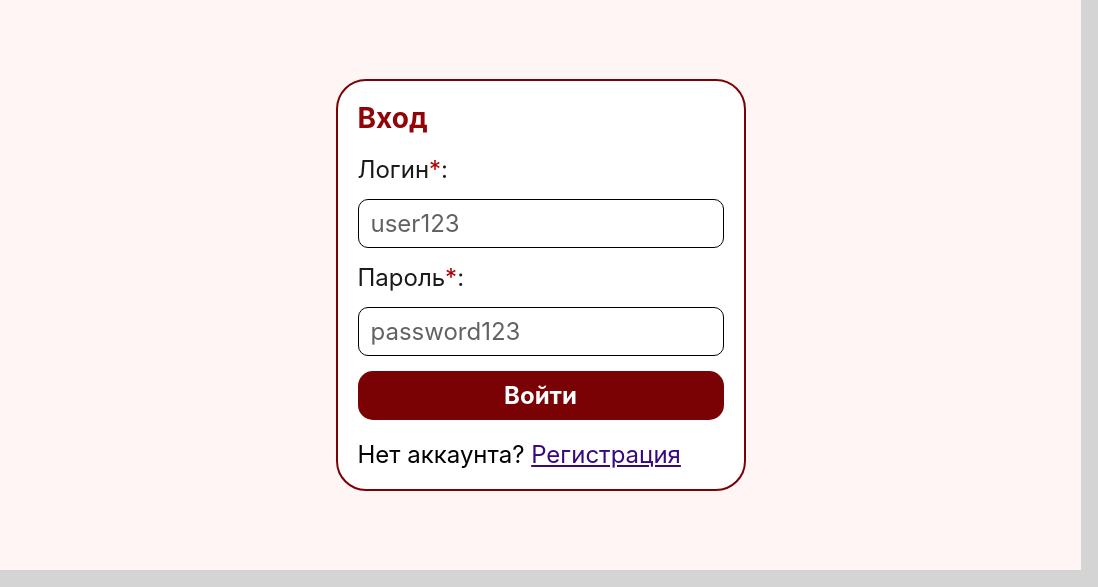
Test case: SignIn Integration › отображает ошибку при неверных данных
Type "wrong" into the field with placeholder "user123" at coordinates (540, 224), box [358,199,724,248]
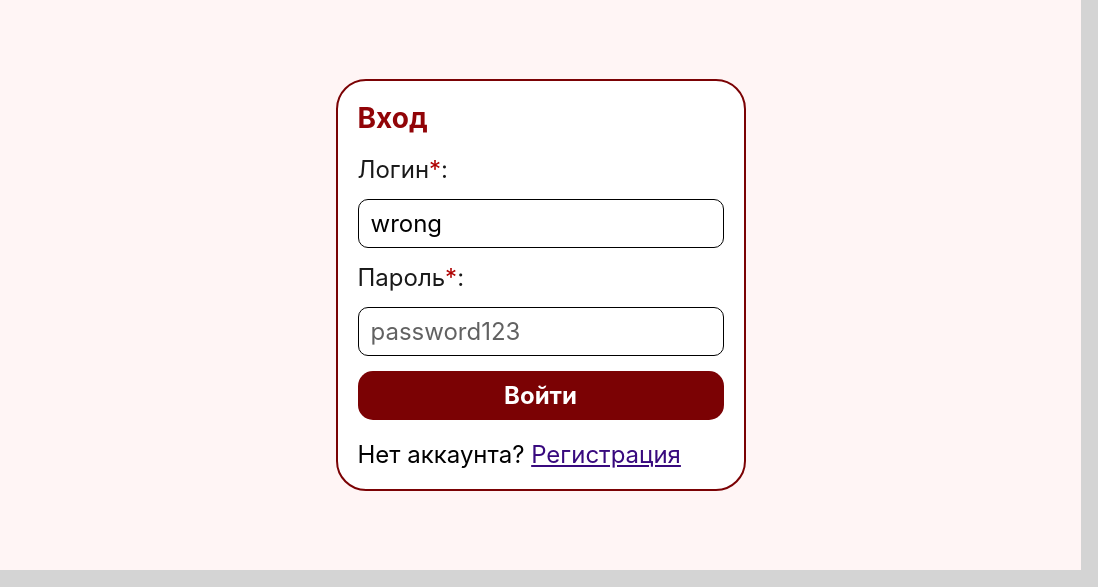
Type "wrong" into the password field with placeholder "password123" at coordinates (540, 332), box [358,307,724,356]
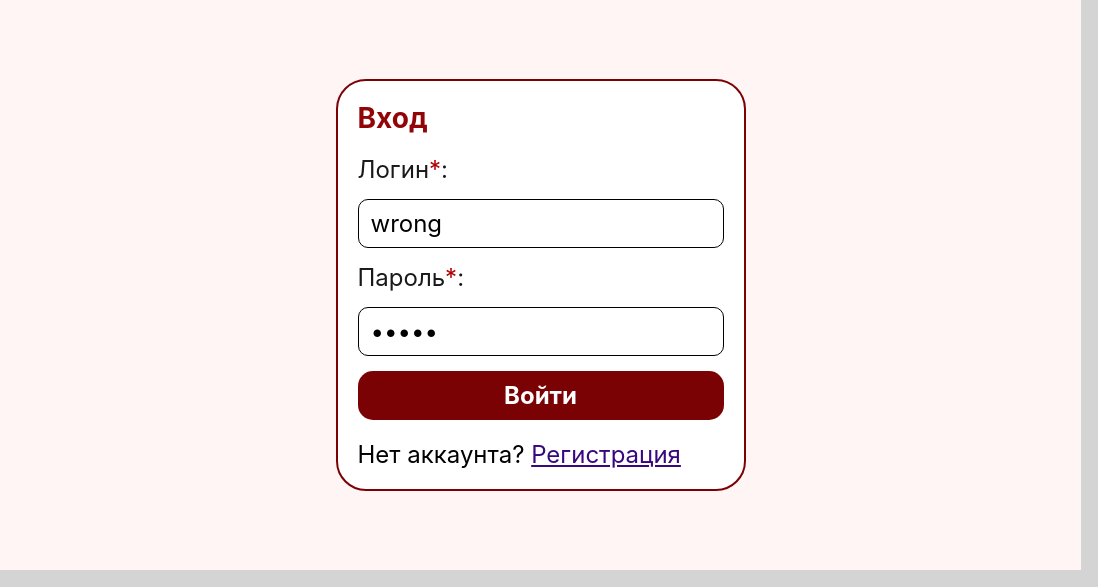
Click the button "Войти" at coordinates (540, 396), box [358,371,724,420]
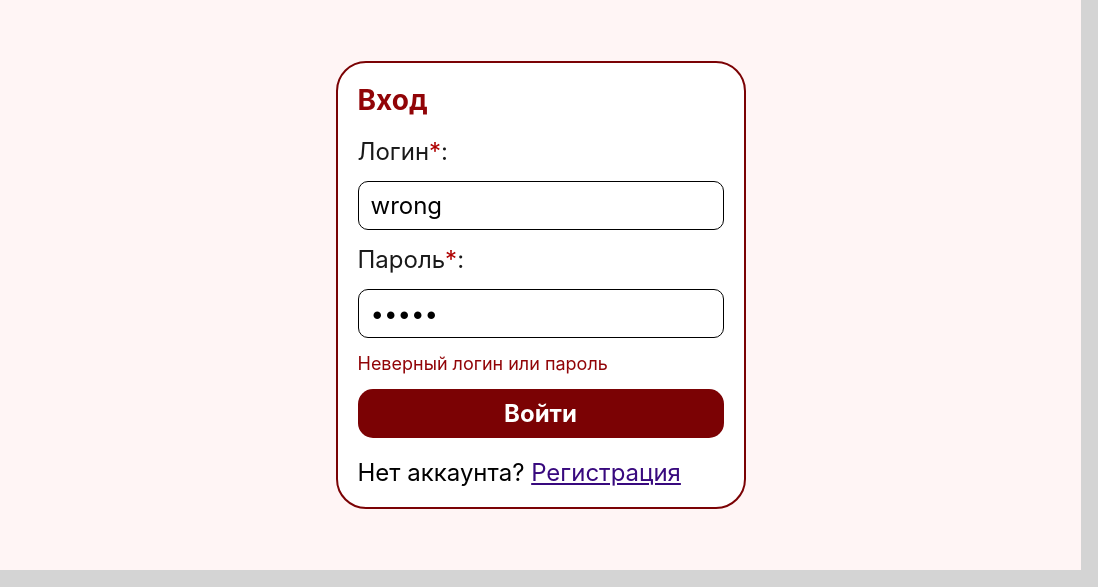
Expected: the text "Неверный логин или пароль" is shown, [358,353,608,374]
